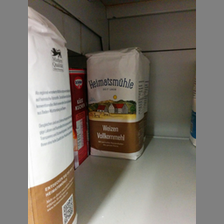flour: (85, 48, 150, 159)
